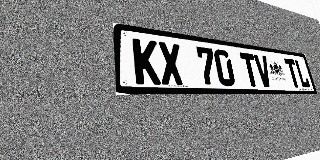0: (213, 49, 236, 86)
7: (195, 46, 219, 86)
K: (132, 38, 161, 85)
L: (294, 59, 311, 88)
T: (239, 52, 260, 87), (284, 58, 301, 88)
V: (253, 54, 273, 87)
X: (157, 41, 184, 85)
